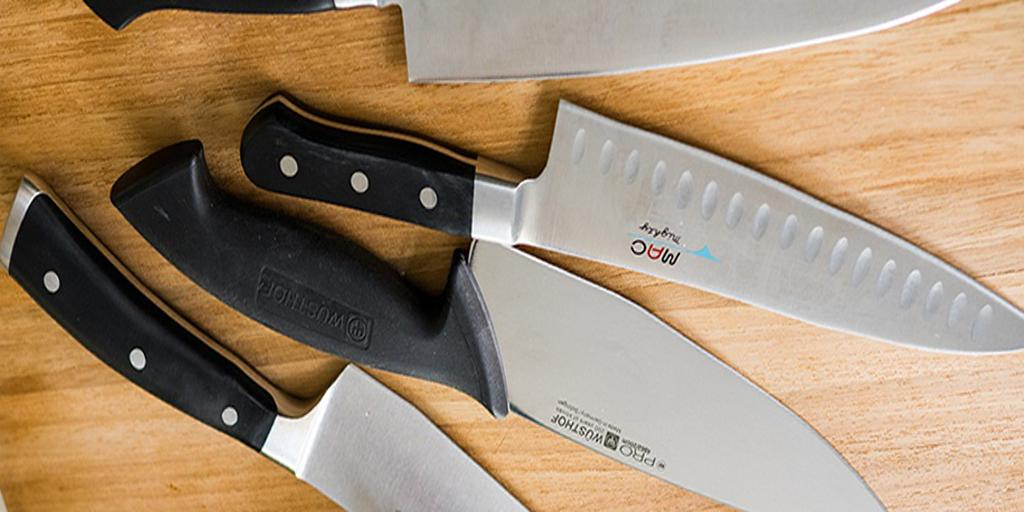knife: (238, 90, 1024, 354)
